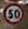limite 50: (2, 1, 24, 24)
